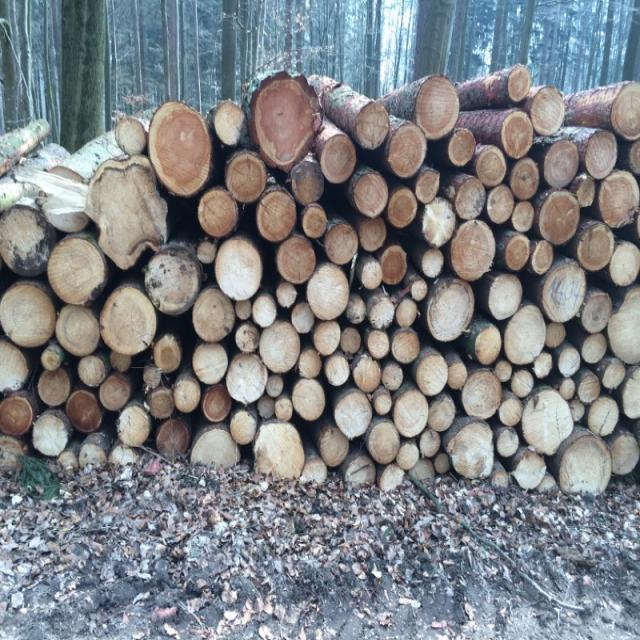wood-log: (90, 165, 170, 272), (252, 75, 321, 167), (150, 105, 213, 197), (47, 236, 106, 305), (102, 288, 156, 357), (148, 247, 202, 314), (1, 283, 57, 347), (524, 391, 576, 457), (214, 235, 262, 299), (425, 282, 474, 344), (560, 439, 612, 496), (255, 419, 307, 476), (448, 220, 496, 281), (0, 206, 43, 274), (416, 78, 460, 142), (543, 262, 587, 323), (448, 421, 493, 479), (505, 308, 548, 366), (307, 262, 350, 319), (192, 288, 235, 343), (539, 192, 582, 246), (598, 173, 638, 230), (608, 291, 640, 362), (56, 305, 100, 356), (226, 354, 269, 406), (259, 321, 301, 374), (257, 190, 298, 243), (193, 427, 239, 472), (389, 125, 428, 177), (225, 155, 267, 203), (461, 370, 501, 420), (276, 235, 316, 283), (335, 392, 374, 440), (199, 189, 238, 237), (578, 223, 616, 272), (422, 196, 458, 247), (32, 410, 71, 456), (321, 137, 358, 185), (528, 88, 564, 136), (544, 140, 580, 188), (392, 391, 428, 438), (352, 172, 388, 217), (354, 104, 389, 150), (66, 390, 103, 433), (585, 132, 618, 180), (488, 274, 523, 319), (292, 378, 328, 421), (368, 419, 402, 464), (192, 342, 228, 384), (0, 339, 28, 392), (326, 223, 361, 265), (613, 84, 640, 138), (502, 114, 534, 159), (291, 163, 325, 205), (214, 101, 245, 146), (513, 451, 548, 490), (414, 354, 448, 394), (0, 395, 32, 437), (586, 397, 619, 437), (120, 405, 152, 446), (580, 292, 612, 333), (455, 179, 486, 221), (387, 188, 418, 230), (37, 368, 71, 406), (114, 118, 148, 156), (610, 242, 640, 285), (201, 382, 232, 422), (610, 434, 640, 475), (159, 418, 192, 455), (319, 429, 350, 468), (511, 158, 540, 199), (476, 149, 507, 187), (447, 129, 477, 167), (486, 185, 515, 224), (154, 335, 183, 374), (99, 374, 130, 410), (476, 326, 504, 365), (230, 410, 260, 445), (428, 396, 456, 433), (380, 248, 407, 286), (390, 330, 420, 364), (358, 217, 387, 252), (352, 356, 380, 392), (369, 295, 397, 330), (173, 377, 200, 413), (312, 322, 340, 356), (622, 367, 640, 419), (506, 233, 531, 270), (46, 212, 90, 233), (80, 356, 108, 388), (304, 203, 330, 237), (289, 301, 316, 333), (326, 355, 352, 388), (415, 170, 441, 203), (251, 295, 277, 328), (582, 332, 609, 363), (530, 240, 553, 275), (512, 200, 536, 233), (149, 390, 175, 420), (299, 347, 324, 378), (498, 397, 523, 428), (578, 372, 603, 402), (396, 296, 419, 328), (603, 359, 627, 389), (496, 428, 519, 459), (422, 248, 444, 280), (512, 370, 537, 398), (365, 331, 389, 360), (418, 429, 441, 458), (558, 344, 580, 374), (342, 326, 364, 356), (361, 260, 382, 291), (398, 442, 421, 470), (382, 364, 404, 393), (448, 358, 468, 389), (276, 281, 298, 307), (575, 177, 594, 206), (109, 348, 131, 372), (546, 324, 567, 349), (532, 351, 552, 377), (491, 357, 513, 380), (144, 366, 162, 394), (41, 346, 61, 371), (373, 388, 392, 414), (198, 239, 217, 264), (268, 374, 285, 398), (632, 139, 640, 177)
